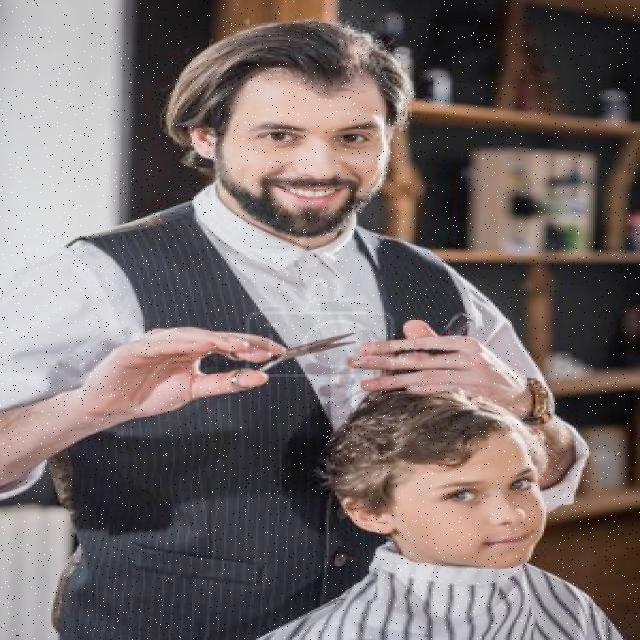scissors: (222, 330, 362, 392)
